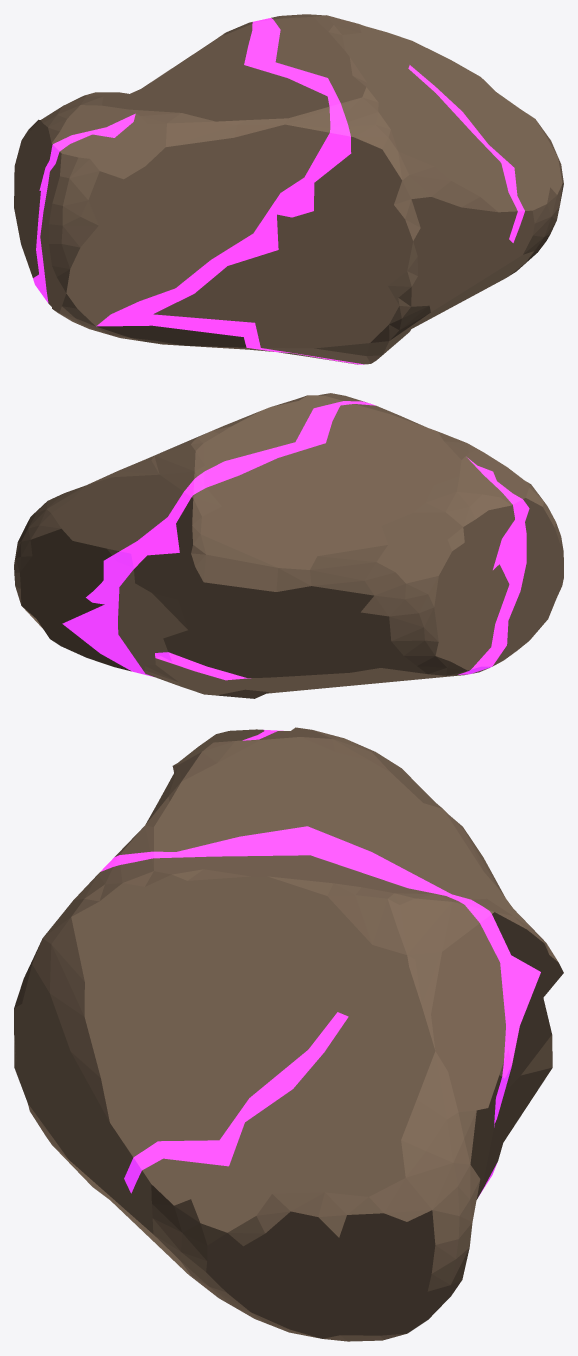
File: Homium.fbx
3 views of the same model, one above another, from view 1: azimuth 30°, elevation 25°; view 2: azimuth 150°, elevation 25°; view 3: azimuth 270°, elevation 25° (orthographic). The views are drawn at different scales.
Visible parts, largest first — view 1: Cube; view 2: Cube; view 3: Cube.
Boxes of the visible parts, x1,y1,x2,y2 form: Cube: (14, 14, 563, 364); Cube: (14, 393, 563, 698); Cube: (14, 727, 563, 1341).
Size of the model in its own units: 230 by 124 by 153.
